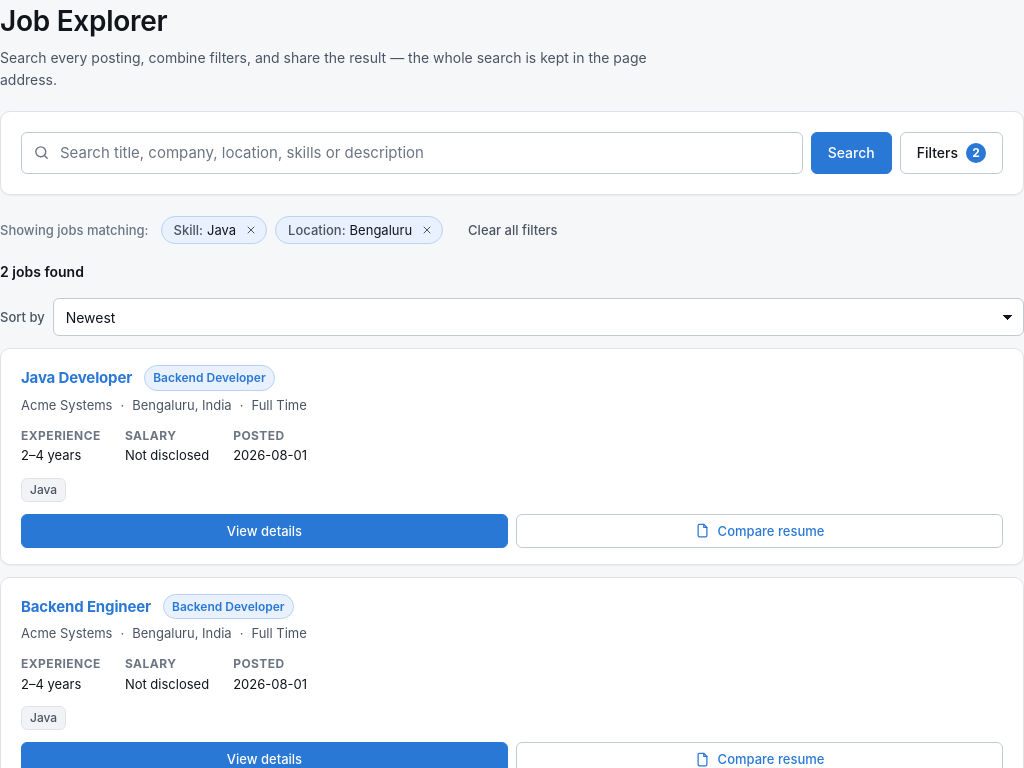
Scenario: JobExplorer › shows each applied filter as a labelled, removable chip
This screenshot has width=1024, height=768.
Expected: the link "Java Developer" is shown, left=21, top=368, right=132, bottom=387
Expected: the text "Skill:" is shown, left=174, top=219, right=203, bottom=241
Step 1. Click the button named "Remove filter Skill: Java" → (251,230), box left=240, top=219, right=262, bottom=241
(page scrolled)
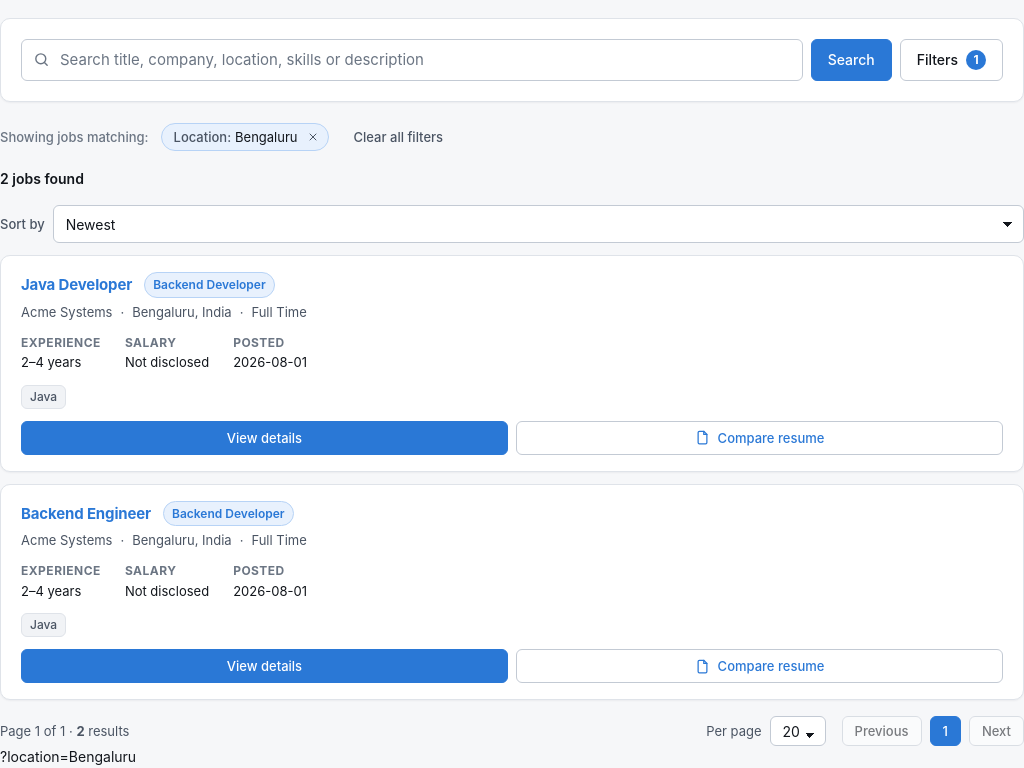
Expected: the text with test id "search" reads "?location=Bengaluru", left=0, top=748, right=136, bottom=765
